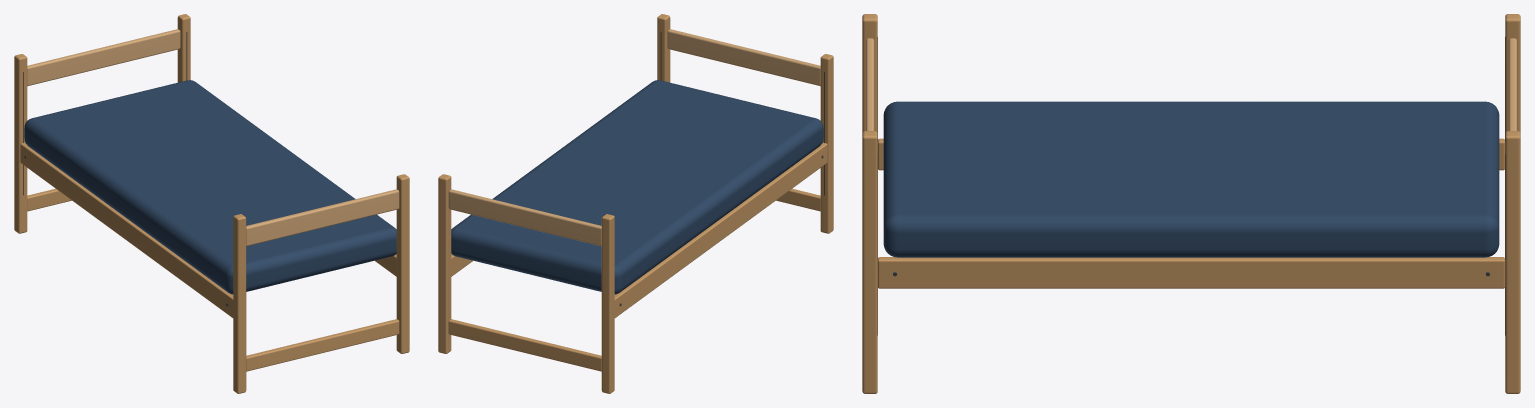
Rendered from college-bed.glb.
3 renders of one model, left to right at view 1: azimuth 30°, elevation 25°; view 2: azimuth 150°, elevation 25°; view 3: azimuth 270°, elevation 25°, orthographic. The views are drawn at different scales.
Visible parts, largest first — view 1: mattress, left-side-rail, foot-upper-crossbar, head-upper-crossbar, foot-lower-crossbar, foot-left-post, foot-right-post, head-left-post, head-right-post, head-lower-crossbar; view 2: mattress, left-side-rail, head-upper-crossbar, foot-upper-crossbar, head-lower-crossbar, head-left-post, head-right-post, foot-left-post, foot-right-post, foot-lower-crossbar; view 3: mattress, right-side-rail, foot-right-post, head-right-post, foot-left-post, head-left-post, foot-upper-crossbar, head-upper-crossbar.
Part boxes in pixels (bbox=[...]): mattress: bbox=[24, 80, 396, 294]; left-side-rail: bbox=[20, 142, 233, 317]; foot-upper-crossbar: bbox=[246, 189, 399, 246]; head-upper-crossbar: bbox=[27, 29, 180, 86]; foot-lower-crossbar: bbox=[246, 319, 399, 371]; foot-left-post: bbox=[233, 214, 246, 393]; foot-right-post: bbox=[396, 174, 409, 353]; head-left-post: bbox=[14, 54, 27, 233]; head-right-post: bbox=[177, 14, 190, 82]; head-lower-crossbar: bbox=[27, 188, 71, 211]; mattress: bbox=[451, 80, 823, 294]; left-side-rail: bbox=[614, 142, 827, 317]; head-upper-crossbar: bbox=[448, 189, 601, 246]; foot-upper-crossbar: bbox=[667, 29, 820, 86]; head-lower-crossbar: bbox=[448, 319, 601, 371]; head-left-post: bbox=[601, 214, 614, 393]; head-right-post: bbox=[438, 174, 451, 353]; foot-left-post: bbox=[820, 54, 833, 233]; foot-right-post: bbox=[657, 14, 670, 82]; foot-lower-crossbar: bbox=[776, 188, 820, 211]; mattress: bbox=[883, 101, 1499, 257]; right-side-rail: bbox=[877, 257, 1505, 288]; foot-right-post: bbox=[862, 131, 877, 393]; head-right-post: bbox=[1505, 131, 1520, 393]; foot-left-post: bbox=[862, 14, 877, 132]; head-left-post: bbox=[1505, 14, 1520, 132]; foot-upper-crossbar: bbox=[866, 38, 874, 130]; head-upper-crossbar: bbox=[1508, 38, 1516, 130].
Bounding box in the file's own units: 0.9652 × 0.9398 × 2.17.
